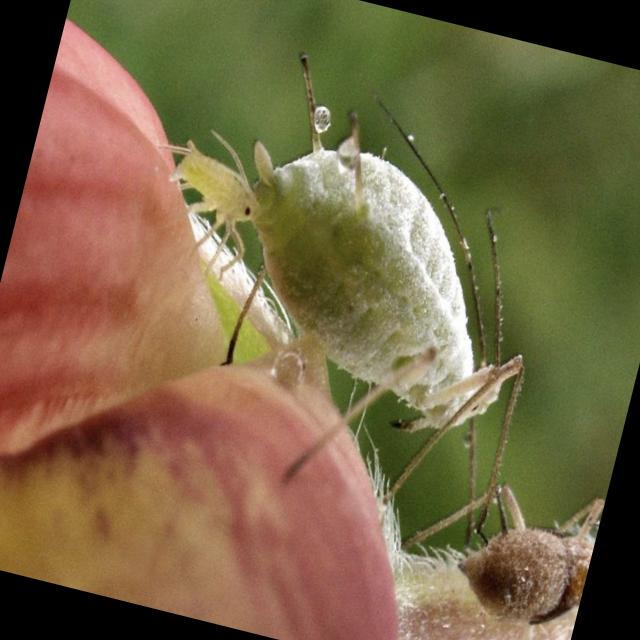Aphids: (171, 63, 593, 554), (136, 124, 284, 269)
